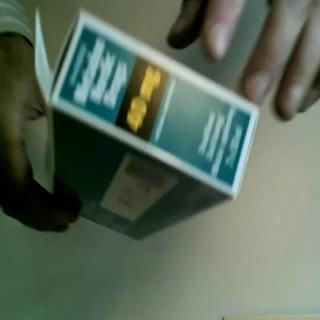metadon_hydrochlorid40mg: (34, 5, 264, 245)
